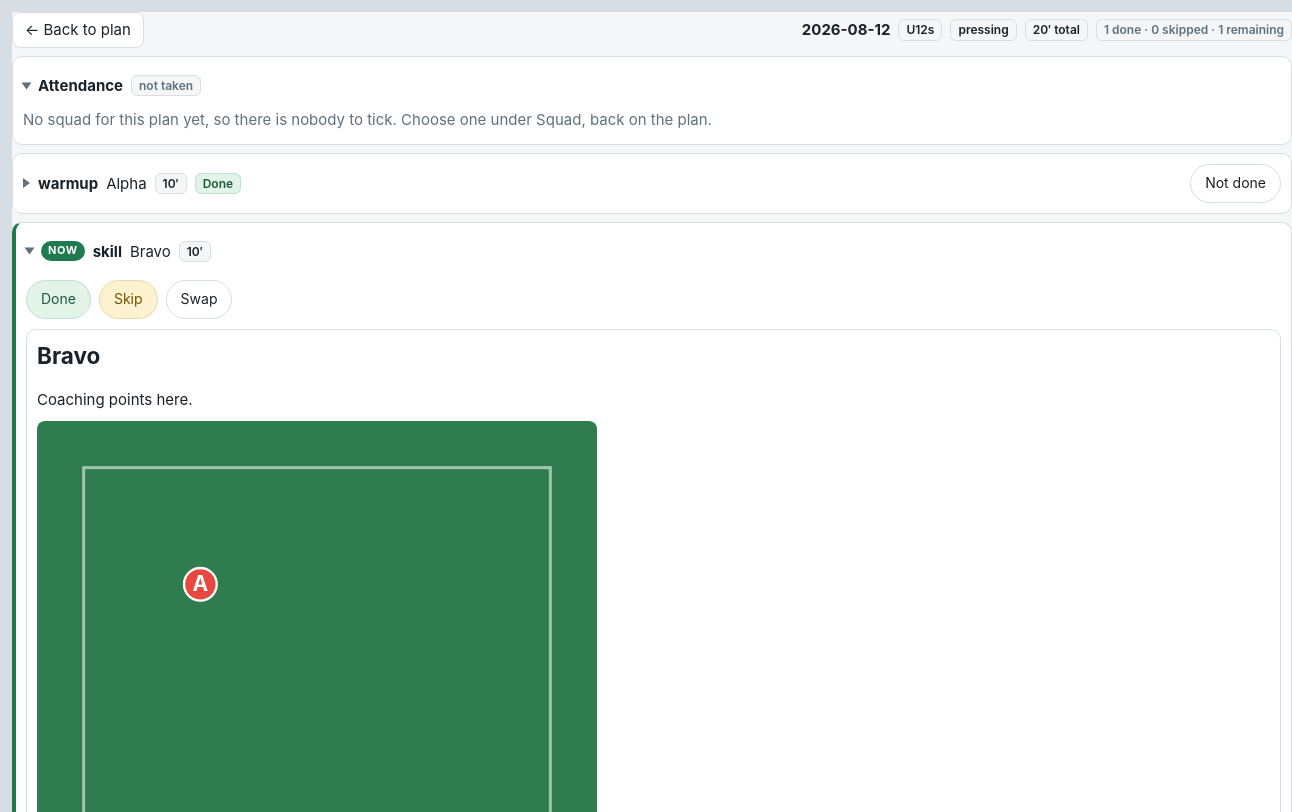
Test: SessionRun swapping a drill › clears the block's mark: a swapped drill was never done
Click the button with class "run-block-summary" showing "warmup Alpha 10′ Done".
click(68, 183)  # box left=23, top=164, right=1182, bottom=202
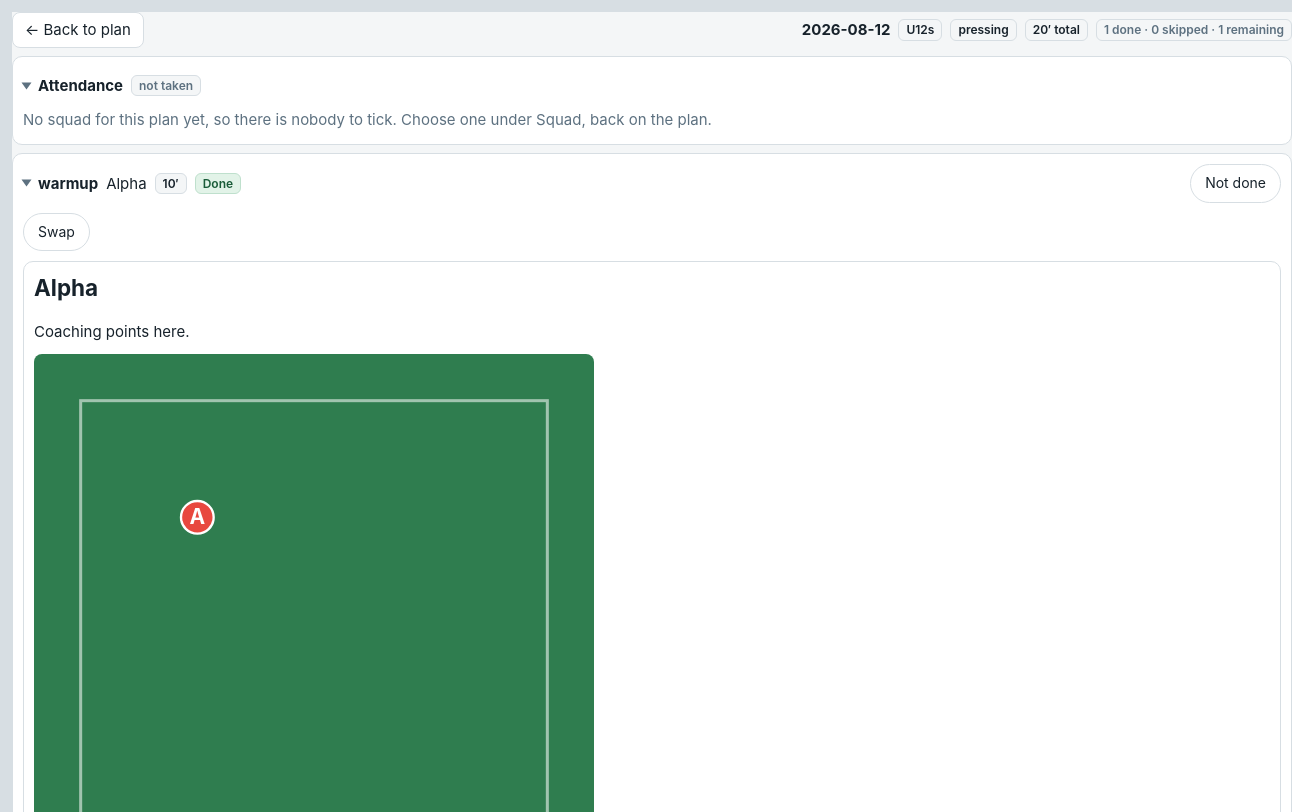
Click the button "Swap".
click(56, 232)  # box left=23, top=212, right=90, bottom=251
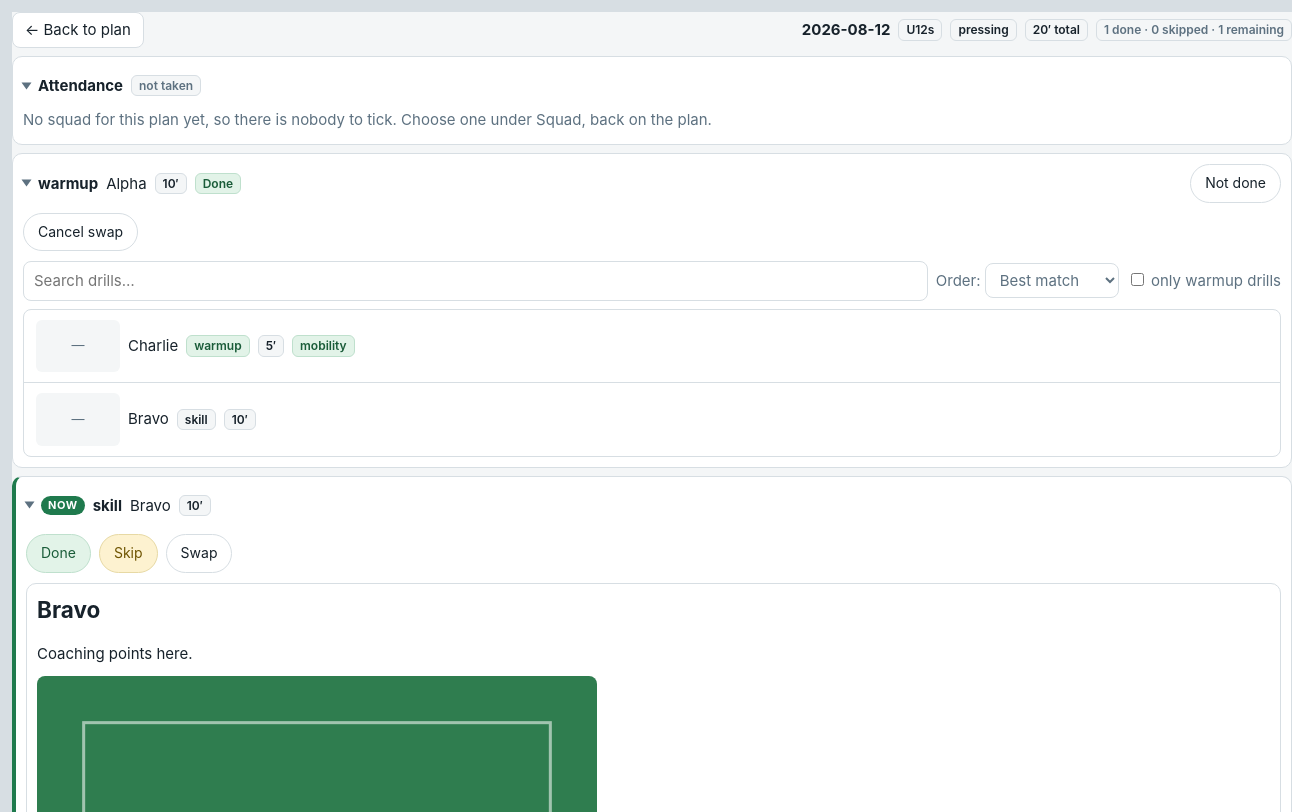
Click the button with class "drill-picker-option" showing "— Charlie warmup 5′ mobility".
click(78, 346)  # box left=24, top=310, right=1280, bottom=382
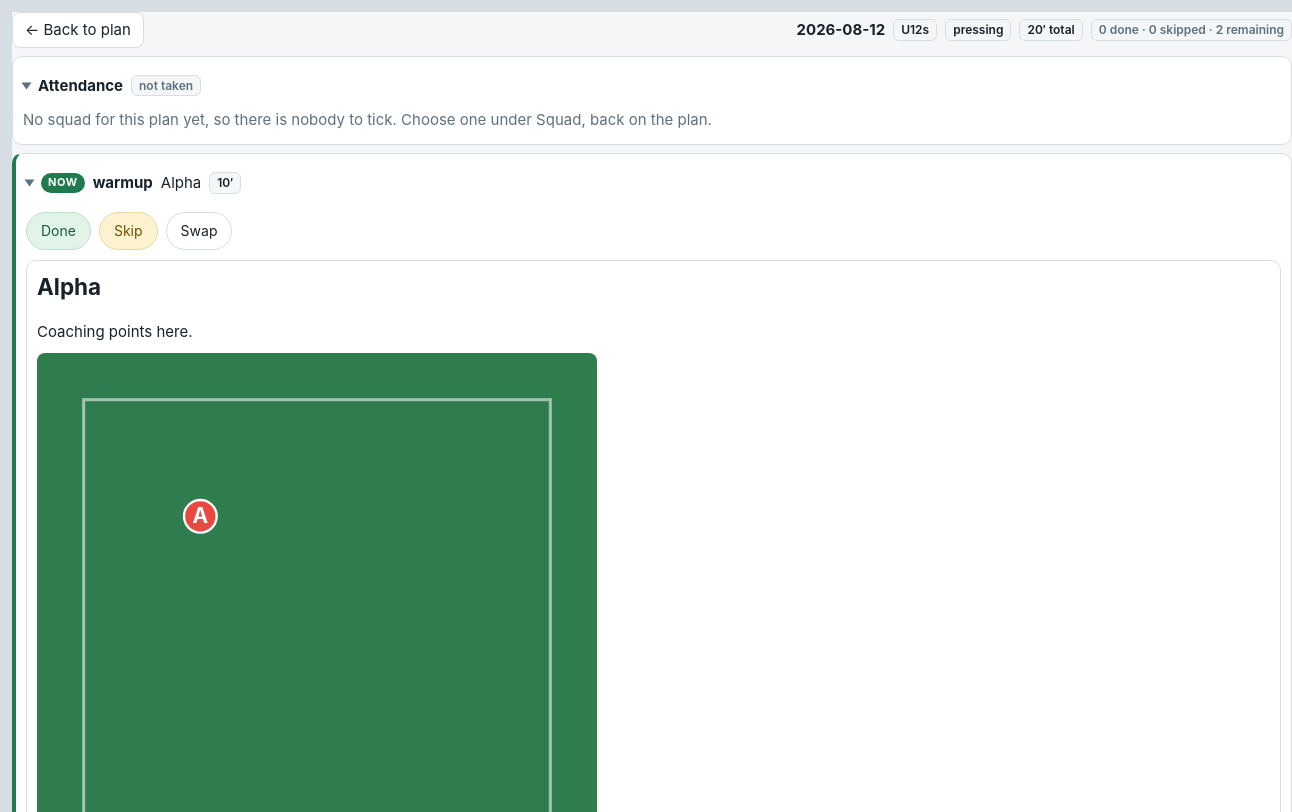
Expected: the text "NOW" is shown, left=41, top=173, right=85, bottom=193
Result: the button no longer shows "Done"
